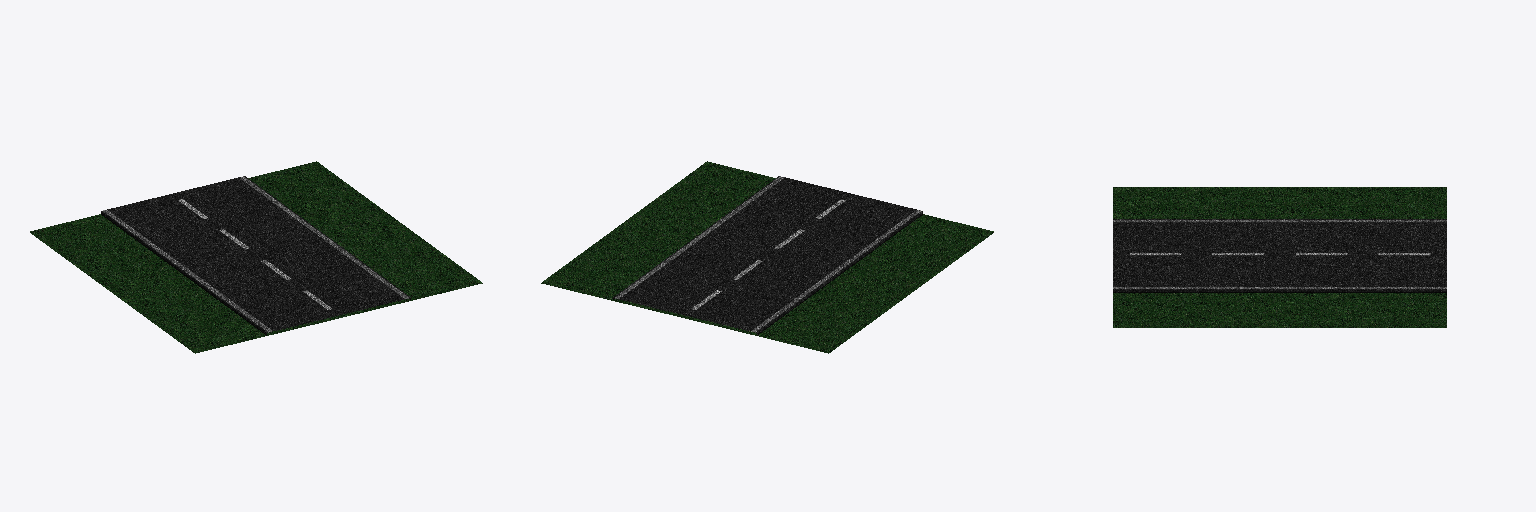
3 renders of one model, left to right at view 1: azimuth 30°, elevation 25°; view 2: azimuth 150°, elevation 25°; view 3: azimuth 270°, elevation 25°, orthographic.
Visible parts, largest first — view 1: Plane, Plane.001; view 2: Plane, Plane.001; view 3: Plane, Plane.001.
Part boxes in pixels (x1,y1,x2,y2): Plane: (101,176,410,335); Plane.001: (30,161,482,353); Plane: (613,176,922,335); Plane.001: (541,161,993,353); Plane: (1113,219,1446,292); Plane.001: (1113,187,1446,327).
Size of the model in its own units: 10 by 0.1 by 10.
Materials: 2 (2 with a texture image).